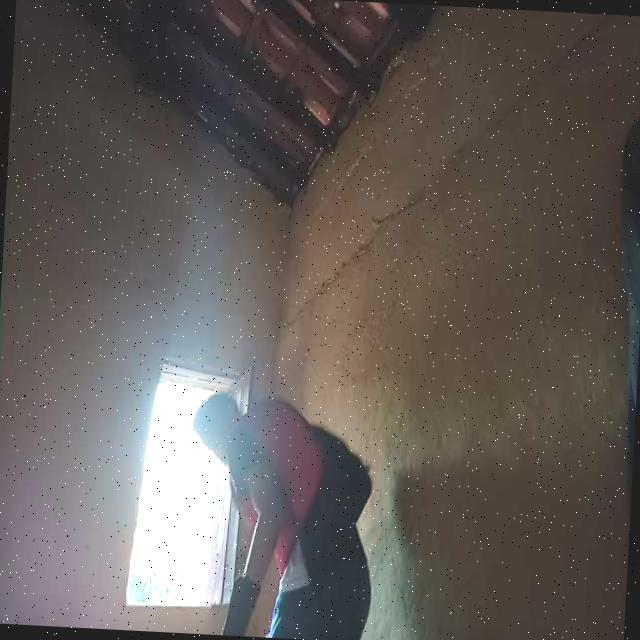colete: (222, 399, 368, 560)
pessoa: (186, 381, 344, 640)
